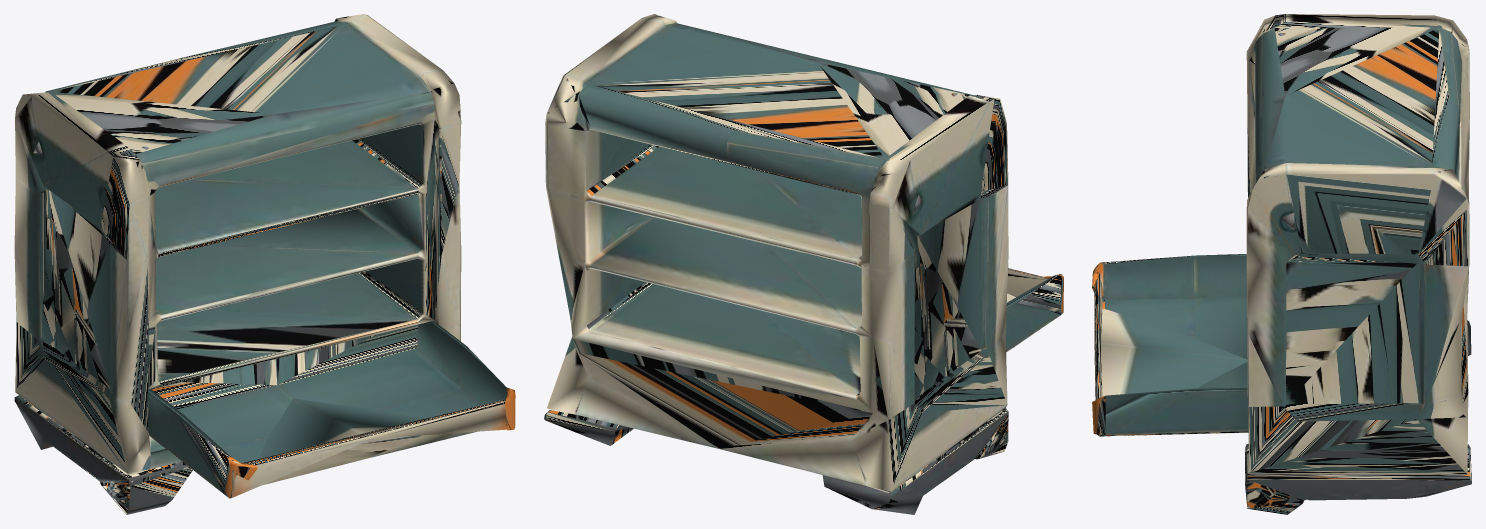
The model's file is warehouse-lod1.3505a50fc14e.glb.
The picture shows the model from 3 angles, left to right: view 1: azimuth 30°, elevation 25°; view 2: azimuth 150°, elevation 25°; view 3: azimuth 270°, elevation 25°; orthographic projection. The views are drawn at different scales.
Visible parts, largest first — view 1: geometry_0; view 2: geometry_0; view 3: geometry_0.
Boxes of the visible parts, bbox=[...] form: geometry_0: bbox=[14, 14, 515, 514]; geometry_0: bbox=[544, 14, 1063, 514]; geometry_0: bbox=[1092, 14, 1471, 514].
Size of the model in its own units: 0.9983 by 0.9938 by 0.9925.
1 material, 1 textured.
